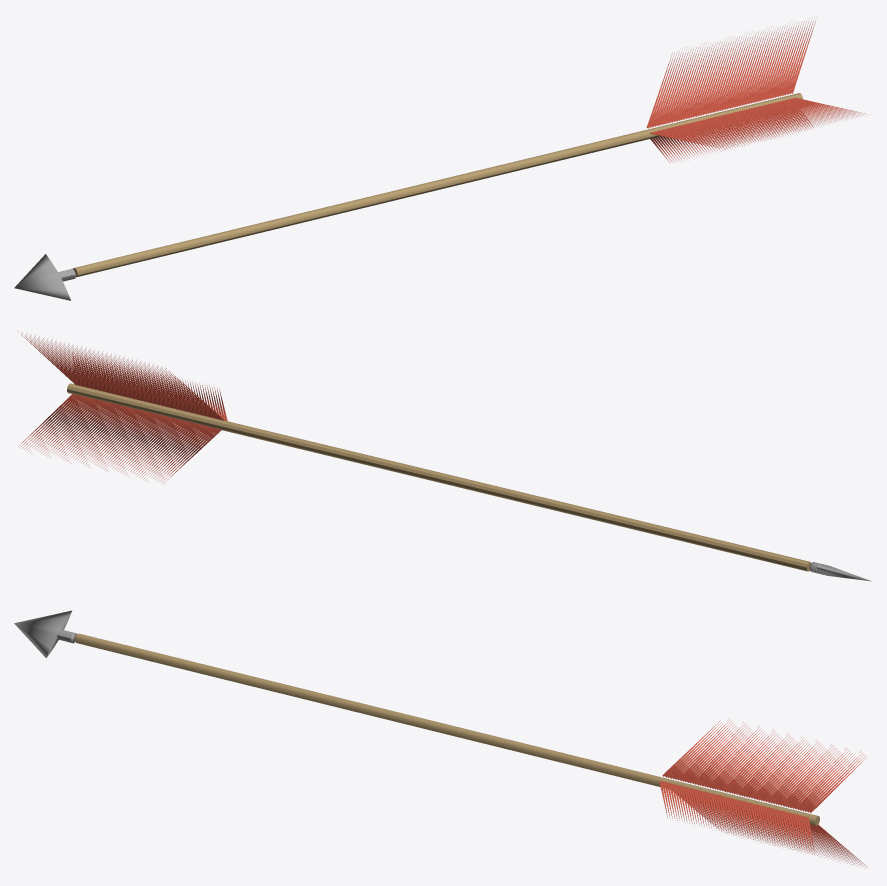
The model's file is arrow.fbx.
3 views of the same model, one above another, from view 1: azimuth 30°, elevation 25°; view 2: azimuth 150°, elevation 25°; view 3: azimuth 330°, elevation 25° (orthographic).
Visible parts, largest first — view 1: Arrow_02_-_Default, Arrow_Wood_Ashen1, Arrow_Metal_Grey_Plai; view 2: Arrow_02_-_Default, Arrow_Wood_Ashen1; view 3: Arrow_02_-_Default, Arrow_Wood_Ashen1, Arrow_Metal_Grey_Plai.
Part boxes in pixels (x1,y1,x2,y2): Arrow_02_-_Default: (646,21,864,162); Arrow_Wood_Ashen1: (73,93,802,277); Arrow_Metal_Grey_Plai: (14,254,75,300); Arrow_02_-_Default: (18,332,227,483); Arrow_Wood_Ashen1: (67,383,811,571); Arrow_02_-_Default: (659,718,866,867); Arrow_Wood_Ashen1: (75,633,819,825); Arrow_Metal_Grey_Plai: (14,610,76,658).
Size of the model in its own units: 3.3 by 0.4519 by 0.3945.
